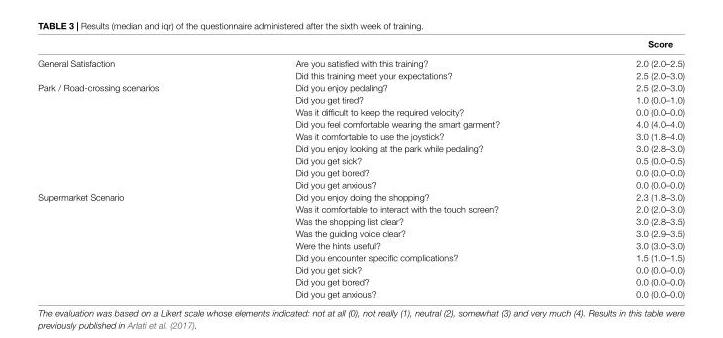table: (37, 37, 683, 298)
table column: (226, 37, 567, 298), (37, 37, 226, 298), (567, 37, 683, 298)
table column header: (37, 37, 683, 52)
table row: (37, 52, 683, 68), (37, 37, 683, 52), (37, 80, 683, 93), (37, 165, 683, 178), (37, 250, 683, 263), (37, 68, 683, 80), (37, 93, 683, 105), (37, 105, 683, 117), (37, 117, 683, 129), (37, 129, 683, 141), (37, 141, 683, 153), (37, 153, 683, 165), (37, 178, 683, 190), (37, 190, 683, 202), (37, 202, 683, 214), (37, 214, 683, 226), (37, 226, 683, 238), (37, 238, 683, 250), (37, 263, 683, 275), (37, 275, 683, 287), (37, 287, 683, 298)
table spanning cell: (37, 80, 226, 190), (37, 190, 226, 298), (37, 52, 226, 80)
